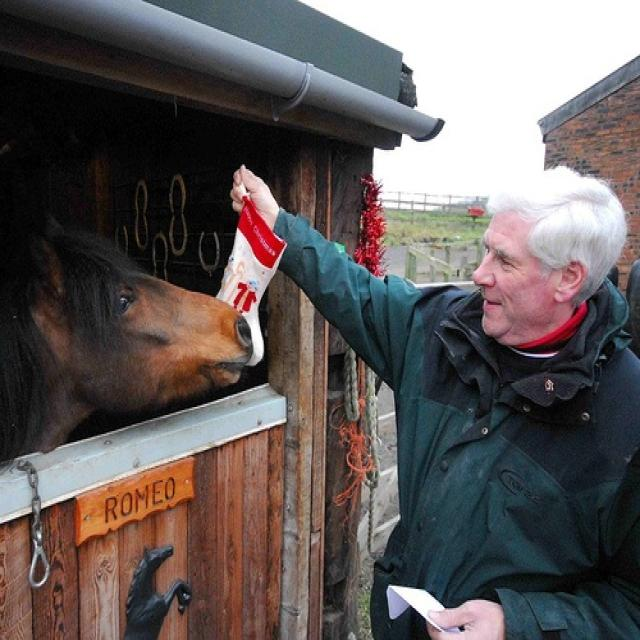horse: (1, 201, 252, 485)
